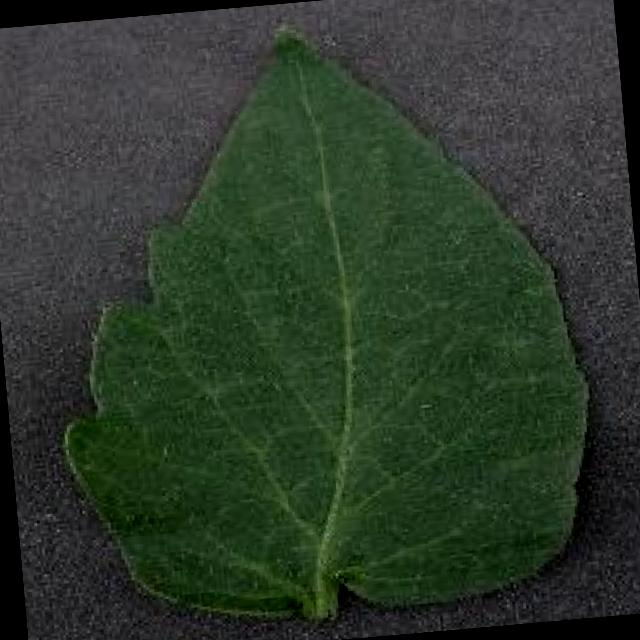healthy: (60, 30, 586, 619)
